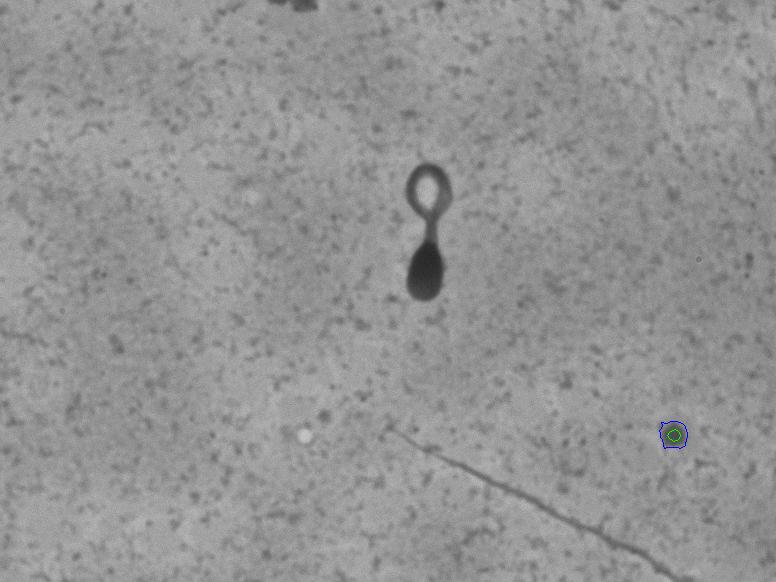Abnormal: (352, 141, 493, 326)
